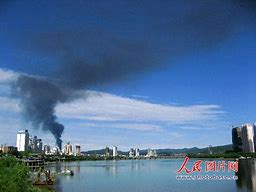smoke: (18, 72, 69, 145)
